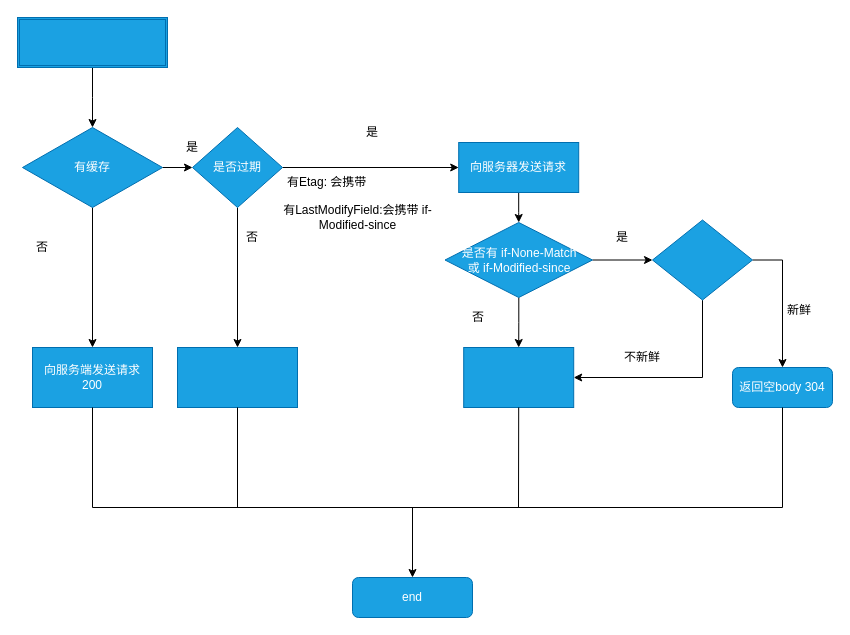
Some shapes in this 850 by 635 pixel diagram are drawn without their labels. Here are the shapes that lost their labels. From the top down, the centre of each, then its label:
At (x=92, y=42): "浏览器请求".
At (x=702, y=259): "验证新鲜度".
At (x=237, y=377): "从缓存读取 200".
At (x=518, y=377): "重生成 200".
